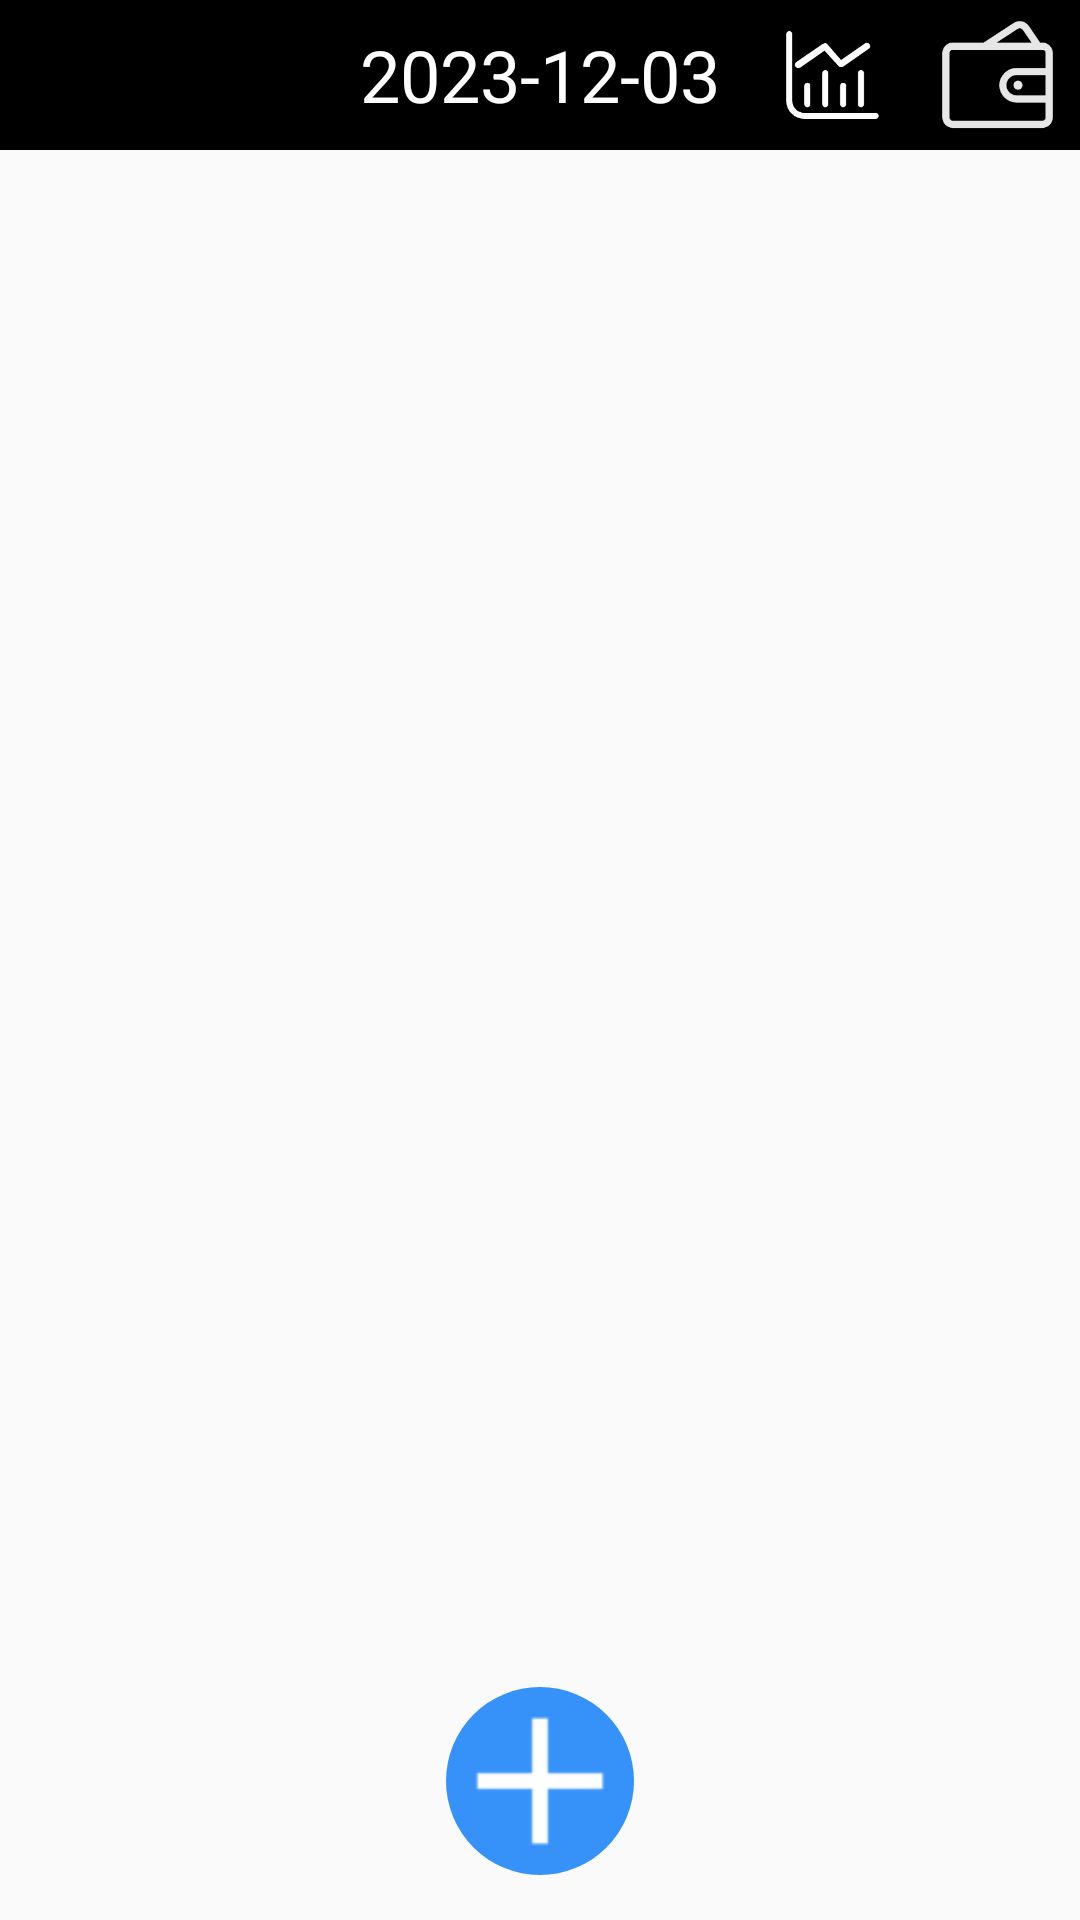

Icons on this 1080w x 1920h Android screen, each with the point to tap as [x,y]:
chart: [832,75]
plus: [540,1781]
wallet: [997,74]
